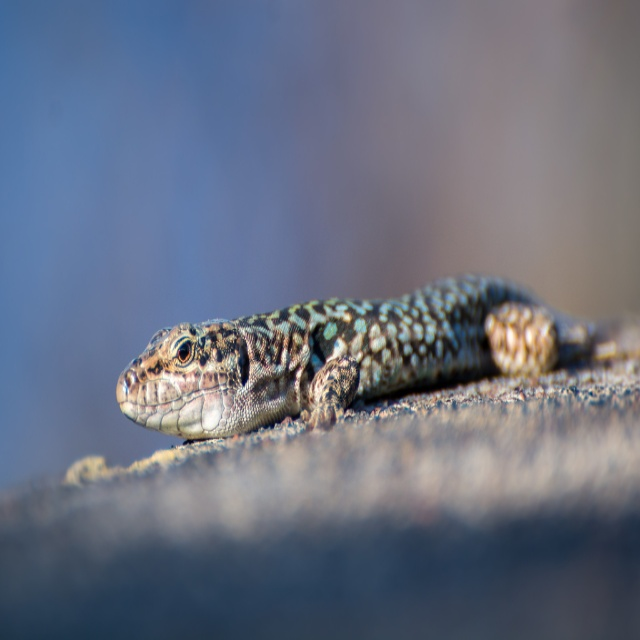Lizard: (82, 267, 609, 459)
